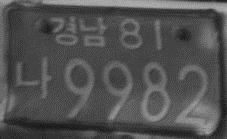1: (150, 17, 166, 53)
2: (174, 62, 211, 127)
8: (139, 60, 172, 122), (118, 16, 143, 51)
9: (61, 56, 96, 122), (100, 59, 135, 121)
경남_O: (47, 14, 108, 48)
나: (12, 54, 53, 101)
